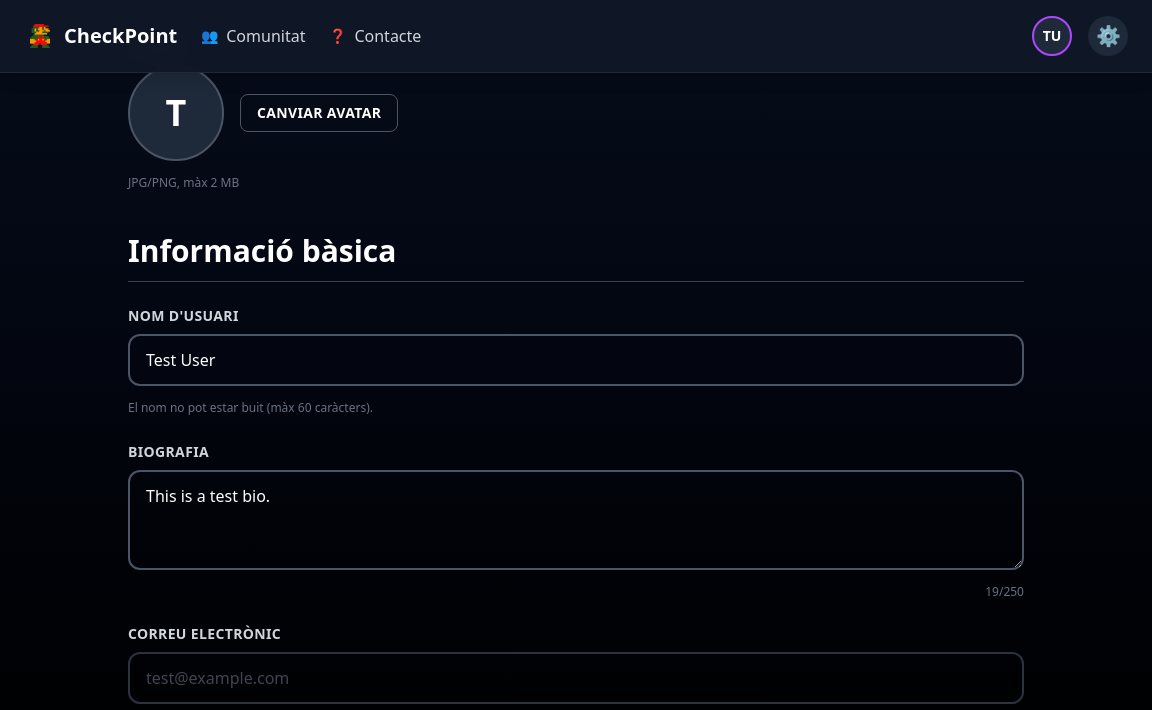
Perfil.vue › enables save button when form is dirty and saves changes
The width and height of the screenshot is (1152, 710).
(page scrolled)
Note: Modificar el nombre
Replace the text in the field with id "name" with "New Name": (576, 360) x1=128 y1=334 x2=1024 y2=386
(page scrolled)
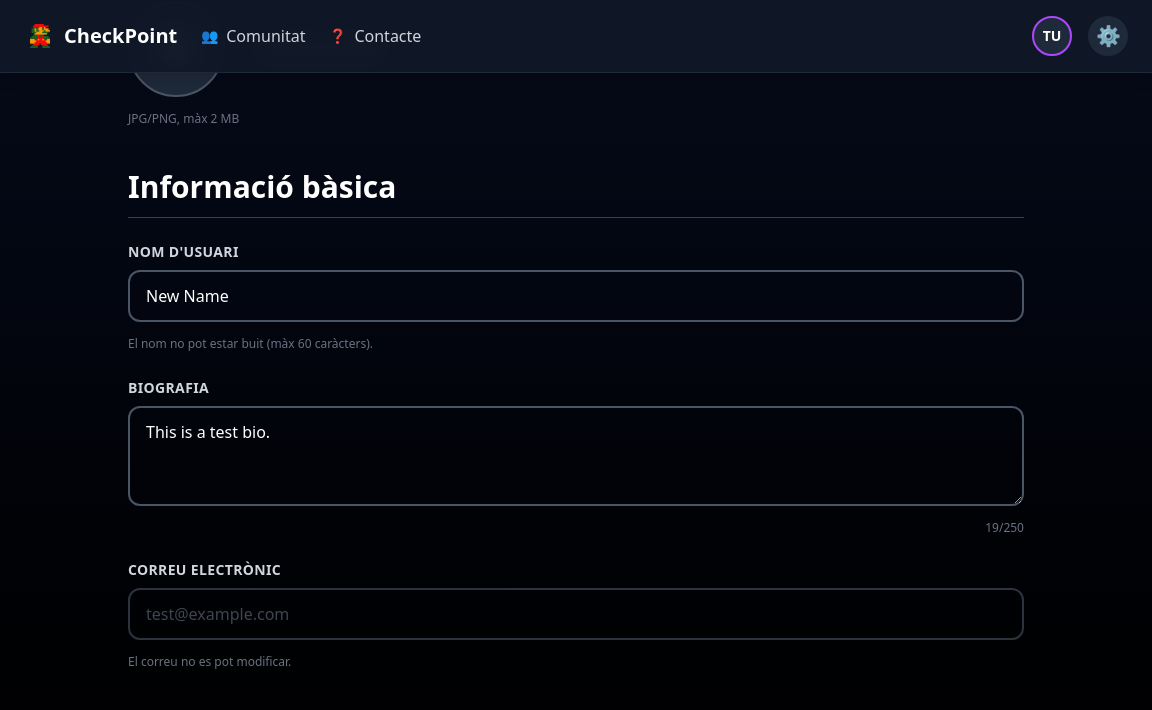
Note: Enviar formulario
Submit the form
(page scrolled)
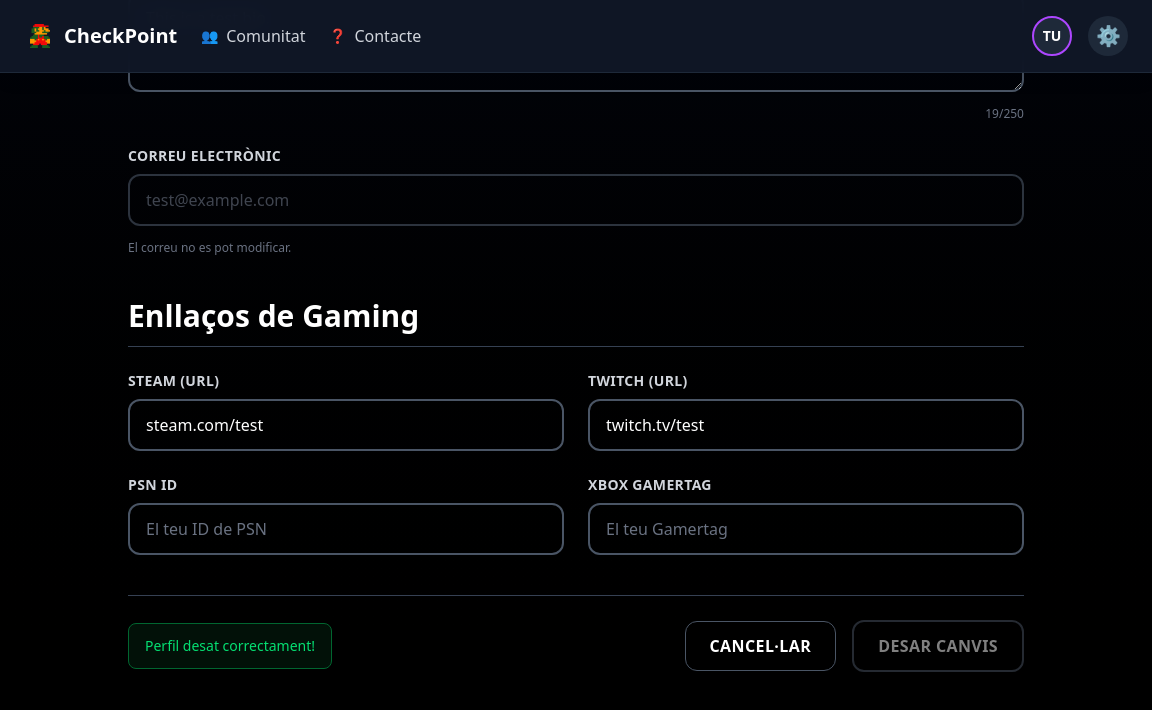
Check: the text "Perfil desat correctament!" is shown, box x1=128 y1=623 x2=332 y2=669
